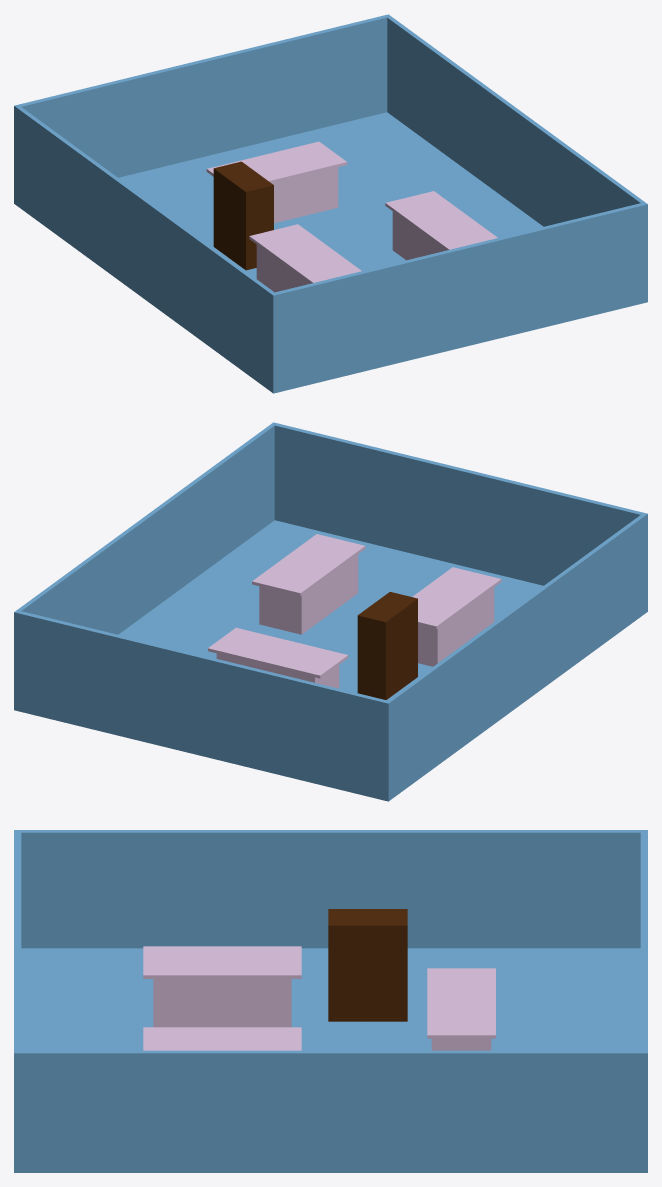
The model's file is room4.fbx.
3 views of the same model, one above another, from view 1: azimuth 30°, elevation 25°; view 2: azimuth 150°, elevation 25°; view 3: azimuth 270°, elevation 25° (orthographic). The views are drawn at different scales.
Visible parts, largest first — view 1: room, meja 3, lemari, meja 1, meja 2; view 2: room, meja 1, meja 2, lemari, meja 3; view 3: room, meja 2, lemari, meja 3, meja 1.
Part boxes in pixels (x1,y1,x2,y2): room: (14,14,647,393); meja 3: (206,141,347,223); lemari: (213,161,273,270); meja 1: (385,191,497,260); meja 2: (249,224,361,292); room: (14,422,647,801); meja 1: (252,534,365,634); meja 2: (412,567,501,666); lemari: (357,592,417,699); meja 3: (208,627,348,688); room: (14,830,647,1172); meja 2: (143,946,301,1027); lemari: (328,909,407,1021); meja 3: (427,968,495,1050); meja 1: (143,1027,301,1050).
Size of the model in its own units: 1000 by 250 by 1200.
